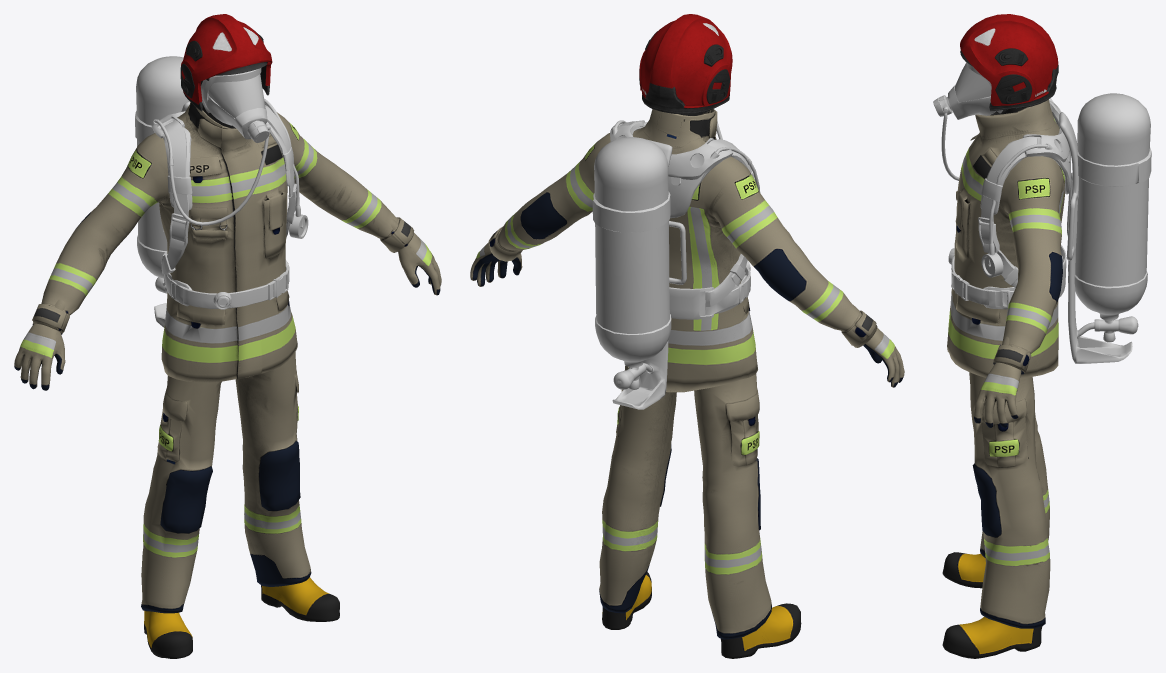
File: Firefighter_StaticMeshes.fbx
3 views of the same model, side by side, from view 1: azimuth 30°, elevation 25°; view 2: azimuth 150°, elevation 25°; view 3: azimuth 270°, elevation 25° (orthographic). The views are drawn at different scales.
Parts seen in each view (by area): view 1: FirefighterJacket, FirefighterPants, OxygenEquipHarness, OxygenEquipCylinnder, FirefighterHelmetPart1, FirefighterBoots, FirefighterGloves, OxygenEquipMask, OxygenEquipFilterPipe; view 2: FirefighterJacket, FirefighterPants, OxygenEquipCylinnder, FirefighterHelmetPart1, OxygenEquipHarness, FirefighterBoots, FirefighterGloves; view 3: FirefighterJacket, OxygenEquipCylinnder, FirefighterPants, FirefighterHelmetPart1, OxygenEquipHarness, FirefighterBoots, FirefighterGloves, OxygenEquipMask, OxygenEquipPressureMonitorPipe, OxygenEquipPressureMonitor.
Part boxes in pixels (x1=…): FirefighterJacket: x1=32, y1=102, x2=414, y2=382; FirefighterPants: x1=141, y1=352, x2=311, y2=613; OxygenEquipHarness: x1=151, y1=103, x2=296, y2=309; OxygenEquipCylinnder: x1=135, y1=56, x2=190, y2=327; FirefighterHelmetPart1: x1=180, y1=14, x2=272, y2=111; FirefighterBoots: x1=144, y1=577, x2=339, y2=658; FirefighterGloves: x1=14, y1=219, x2=441, y2=390; OxygenEquipMask: x1=200, y1=68, x2=267, y2=139; OxygenEquipFilterPipe: x1=169, y1=134, x2=269, y2=225; FirefighterJacket: x1=488, y1=109, x2=877, y2=392; FirefighterPants: x1=599, y1=365, x2=771, y2=639; OxygenEquipCylinnder: x1=592, y1=137, x2=686, y2=409; FirefighterHelmetPart1: x1=639, y1=14, x2=732, y2=114; OxygenEquipHarness: x1=610, y1=120, x2=753, y2=319; FirefighterBoots: x1=602, y1=572, x2=801, y2=658; FirefighterGloves: x1=470, y1=242, x2=904, y2=387; FirefighterJacket: x1=947, y1=99, x2=1065, y2=378; OxygenEquipCylinnder: x1=1059, y1=93, x2=1151, y2=363; FirefighterPants: x1=969, y1=372, x2=1050, y2=628; FirefighterHelmetPart1: x1=960, y1=14, x2=1058, y2=111; OxygenEquipHarness: x1=948, y1=98, x2=1071, y2=309; FirefighterBoots: x1=942, y1=552, x2=1042, y2=658; FirefighterGloves: x1=974, y1=336, x2=1021, y2=427; OxygenEquipMask: x1=946, y1=62, x2=1002, y2=119; OxygenEquipPressureMonitorPipe: x1=989, y1=144, x2=1047, y2=255; OxygenEquipPressureMonitor: x1=981, y1=252, x2=1003, y2=277.
Bounding box in the file's own units: 1.35 × 1.87 × 0.6167.
